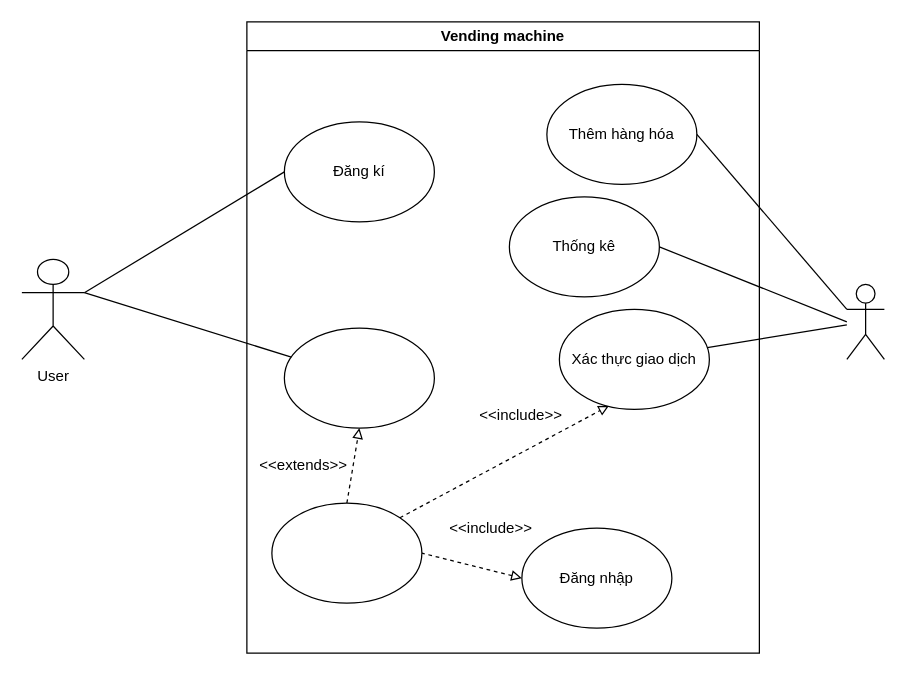
This 906x675 diagram has some shape labels left out. Here are the shapes that lost their labels. From the top down, the centre of each, then its label:
(x=865, y=321): App
(x=358, y=377): Chọn nước
(x=346, y=552): Thanh toán
